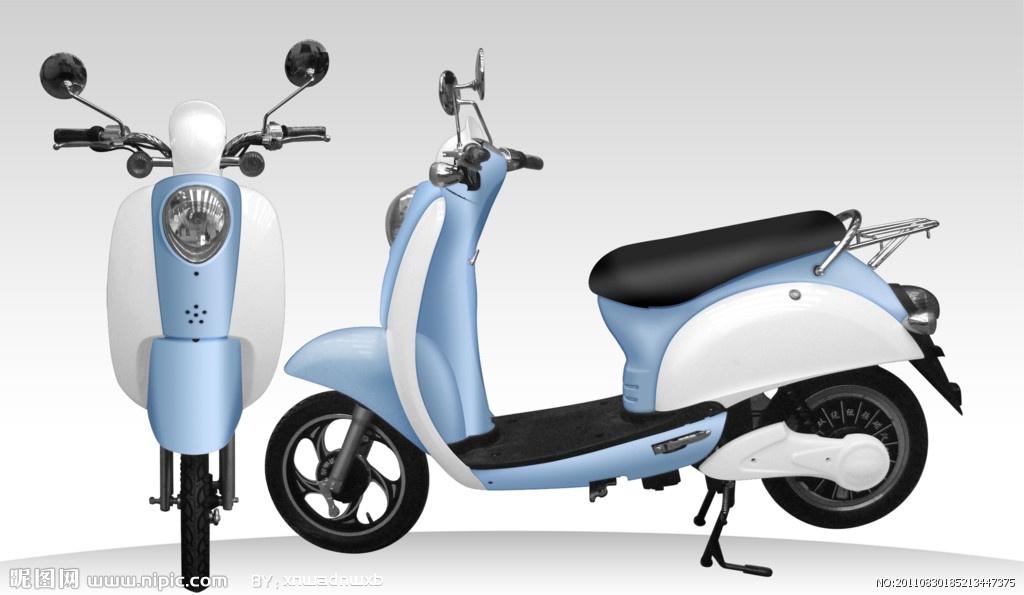non-vehicle: (268, 87, 954, 569), (45, 50, 316, 595)
